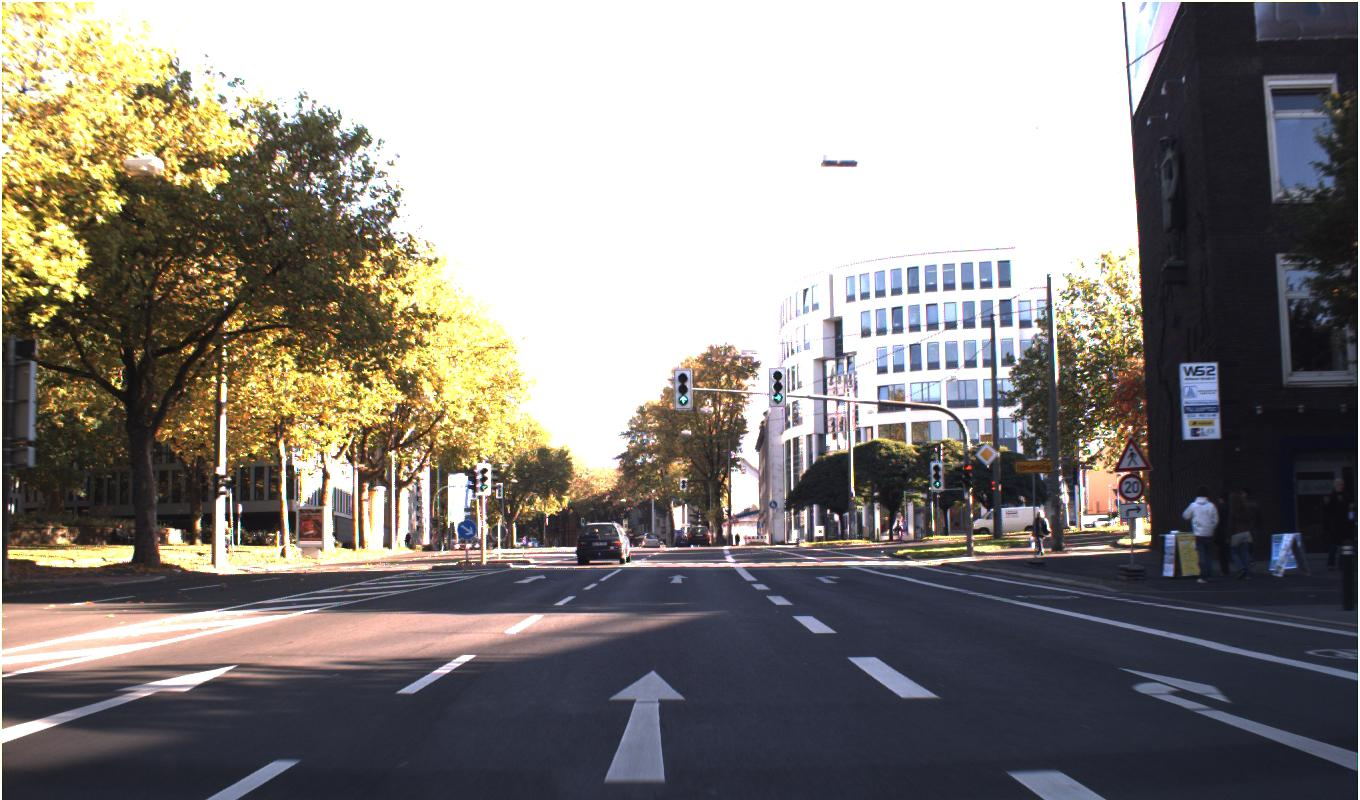danger: (1113, 436, 1152, 473)
mandatory: (456, 520, 476, 540)
prohibitory: (1117, 473, 1146, 502)
sign: (974, 442, 999, 467)
